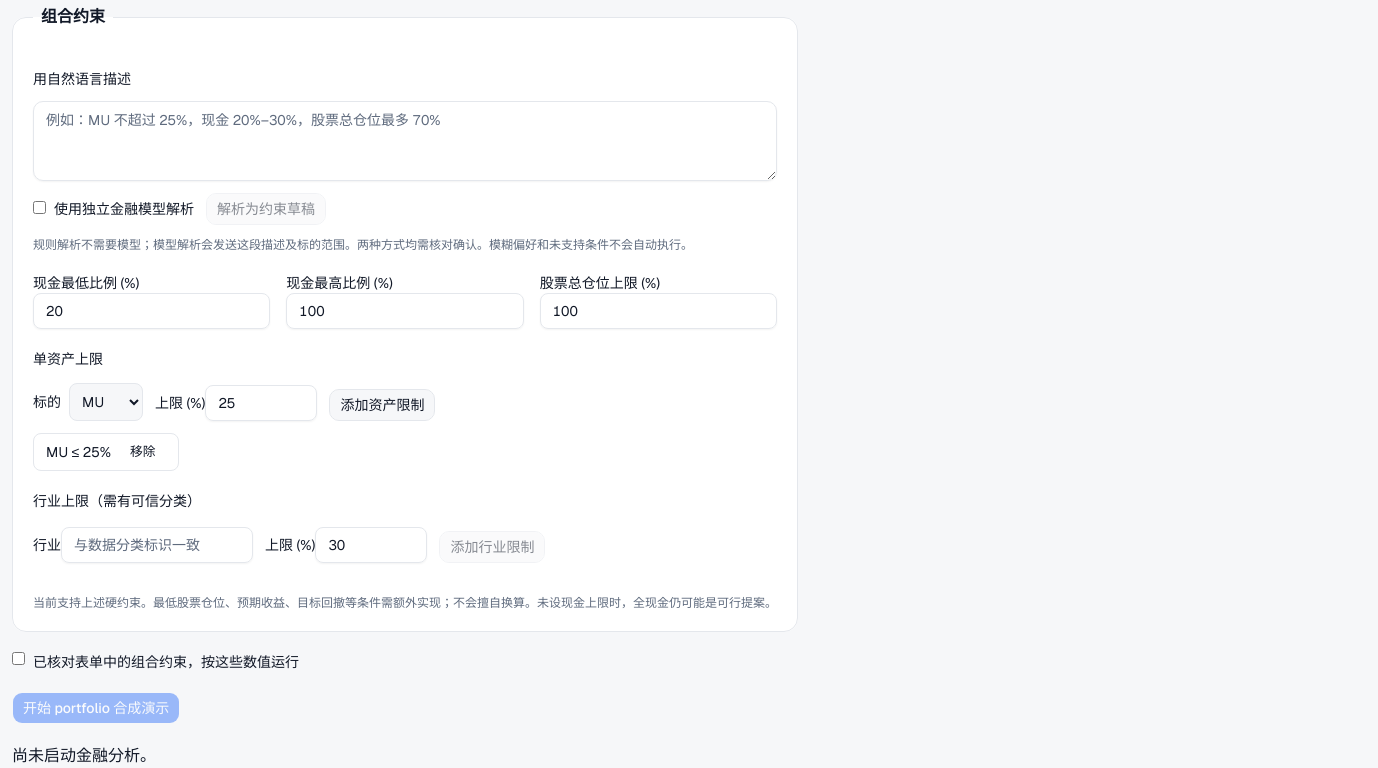
Test case: renders exact API limitation SYSTEM_UNAVAILABLE without inferring a system message
(page scrolled)
Click the checkbox named "确认组合约束" at (18, 658), box [12,652,25,665]
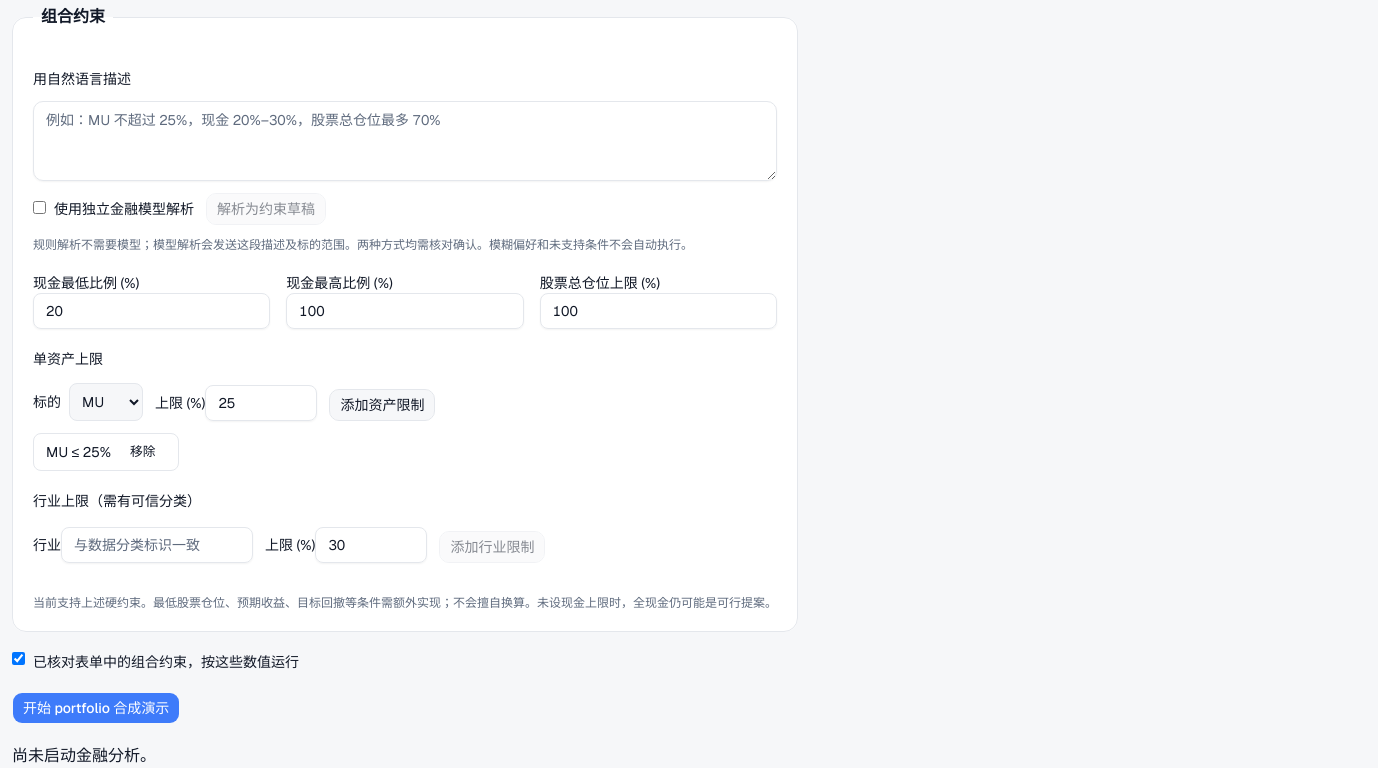
Click the button "开始 portfolio 合成演示" at (96, 708), box [12,692,180,724]
(page scrolled)
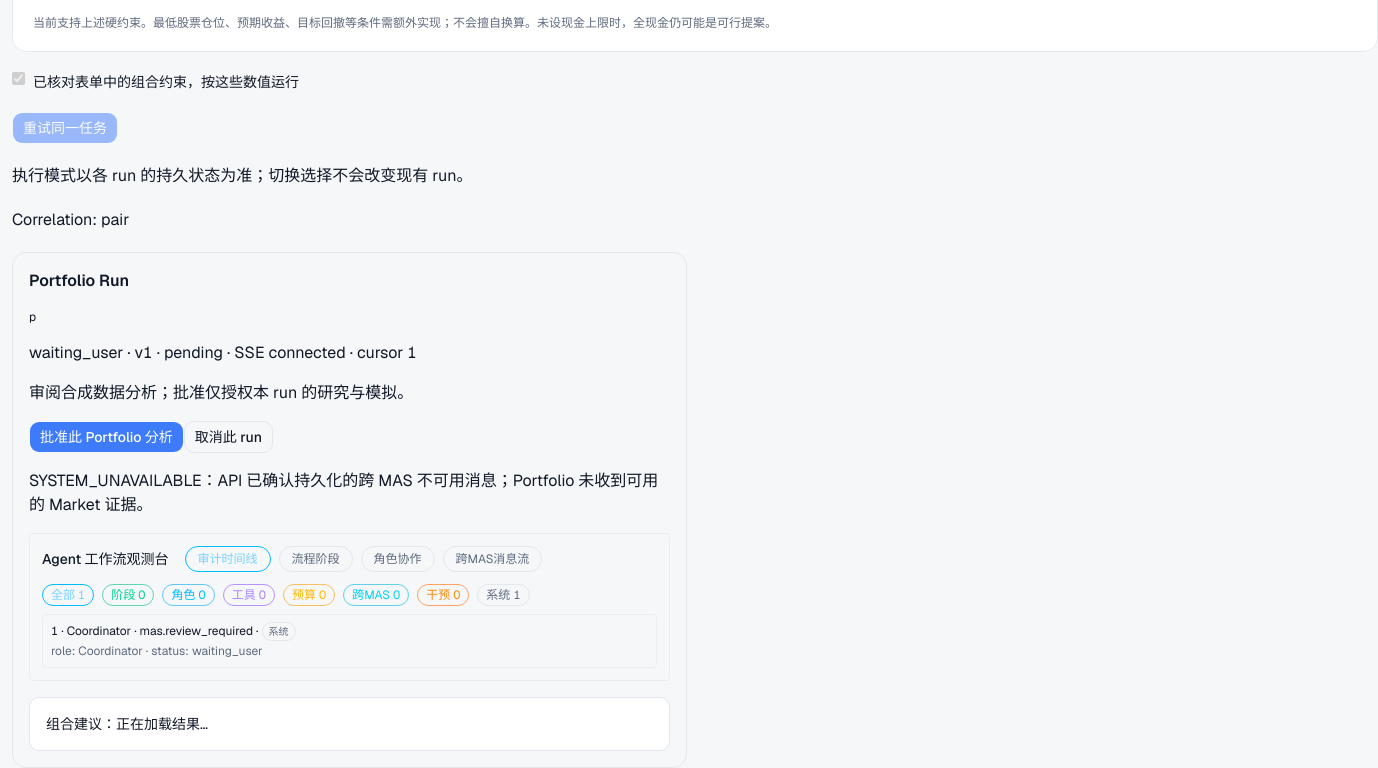
Expected: the button "批准此 Portfolio 分析" is enabled, [29,421,184,453]
Expected: the text "SYSTEM_UNAVAILABLE：API 已确认持久化" is shown, [29,470,658,515]
